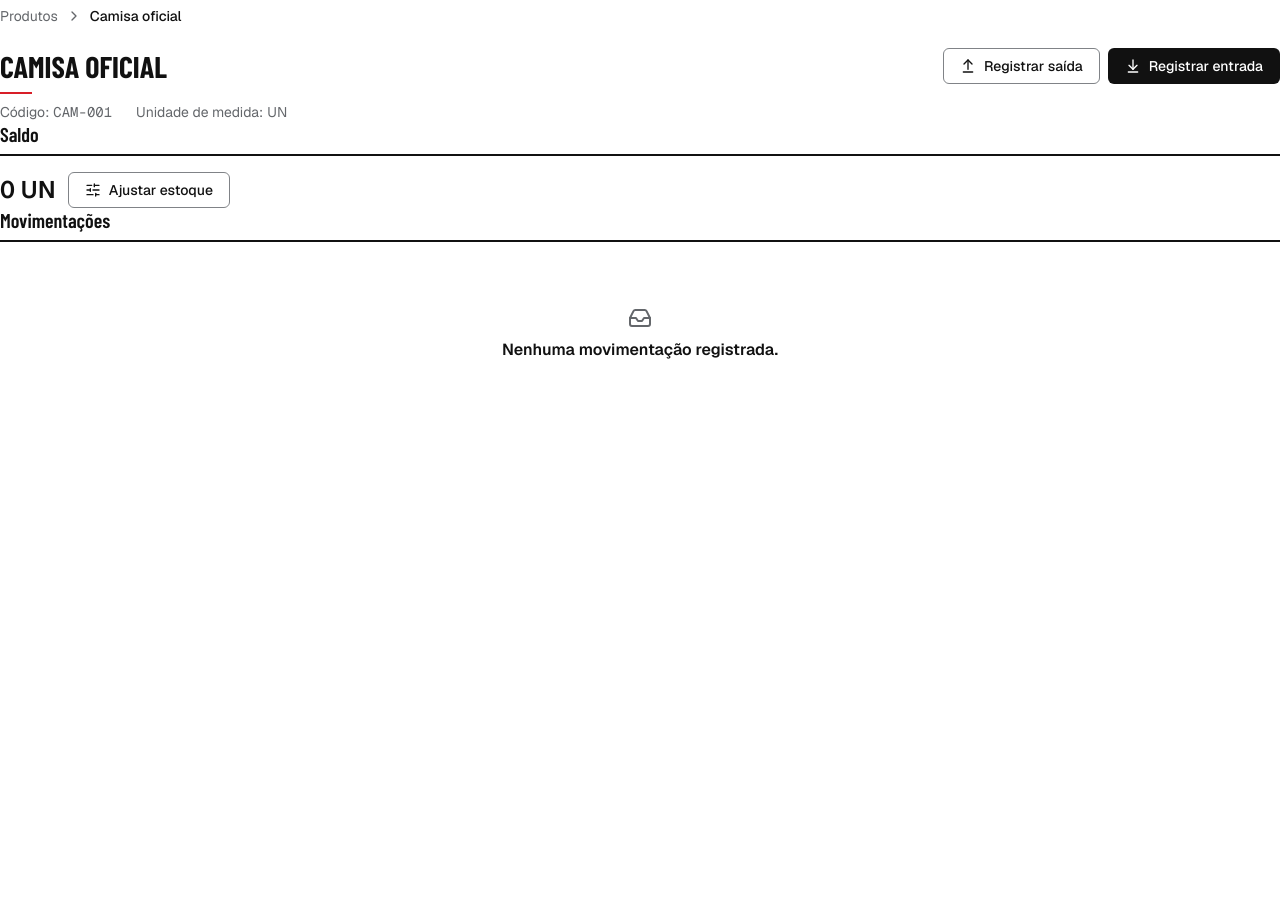
Test: erros da API › 422 quantidade_invalida mostra a mensagem e mantém o diálogo
Expected: the text "0 UN" is shown, x1=0 y1=174 x2=56 y2=206
Click the button "Ajustar estoque" at (149, 190), box x1=68 y1=172 x2=230 y2=208
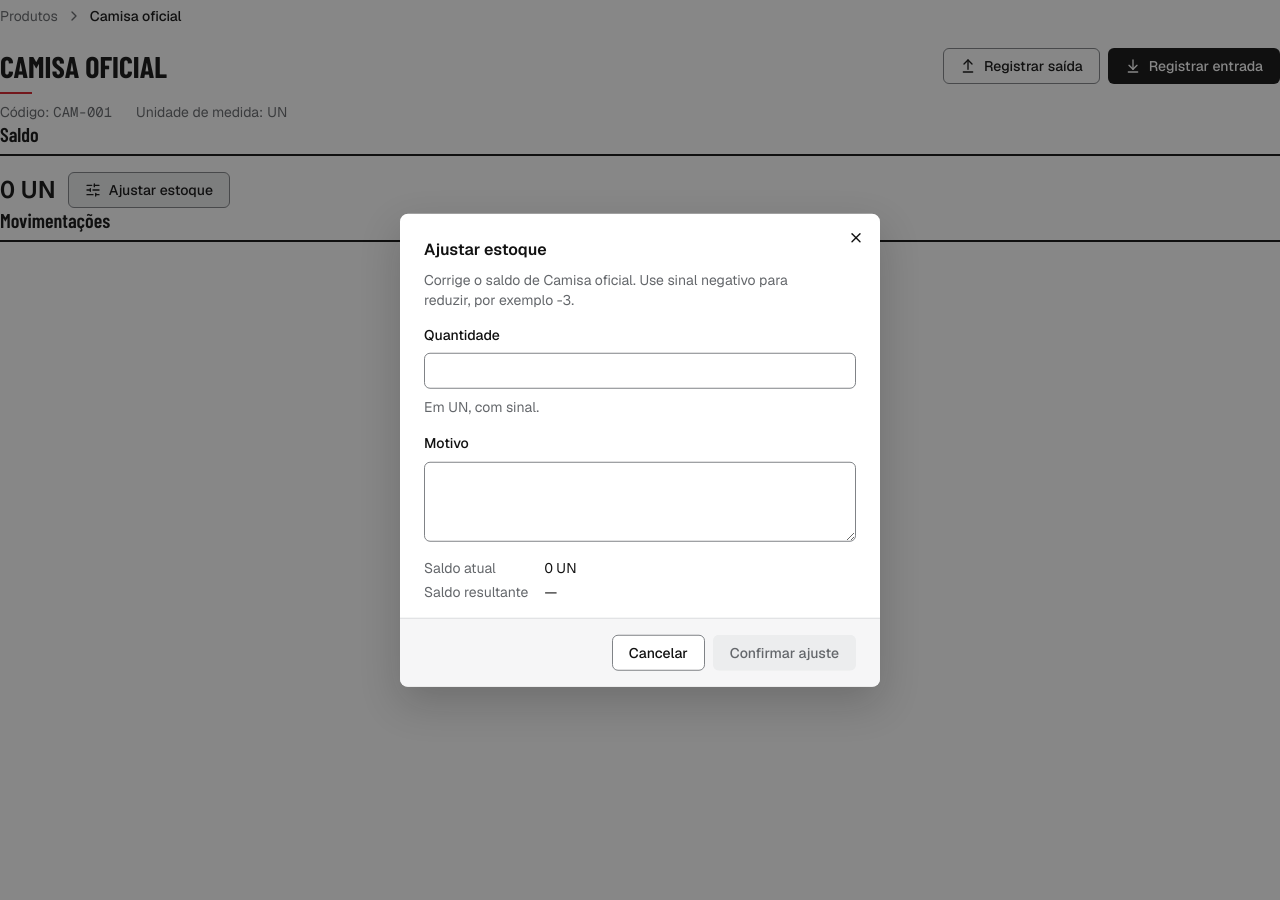
Type "-1" into the field labelled "Quantidade" at (640, 371), box x1=424 y1=353 x2=856 y2=389
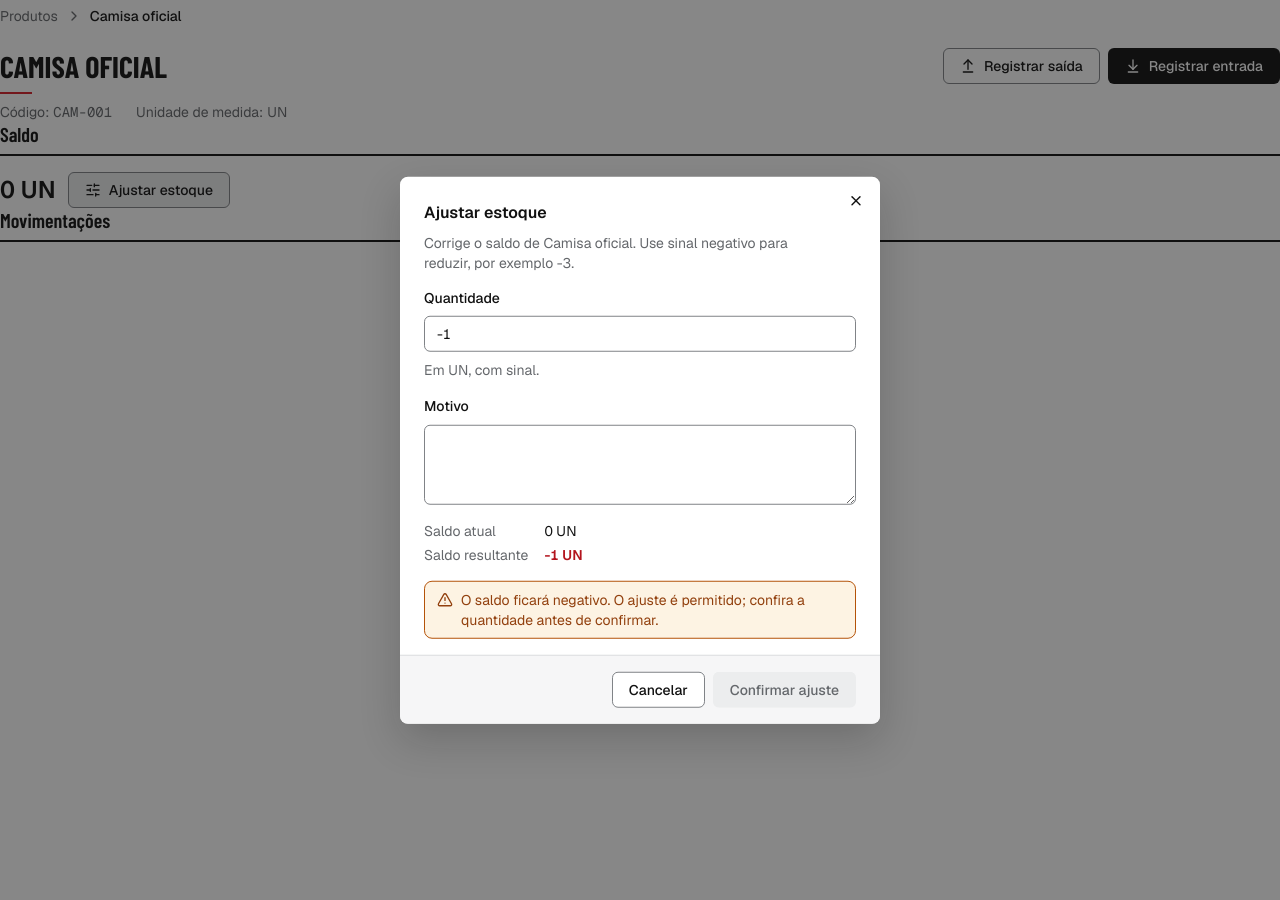
Type "Motivo" into the text box labelled "Motivo" at (640, 464), box x1=424 y1=424 x2=856 y2=504
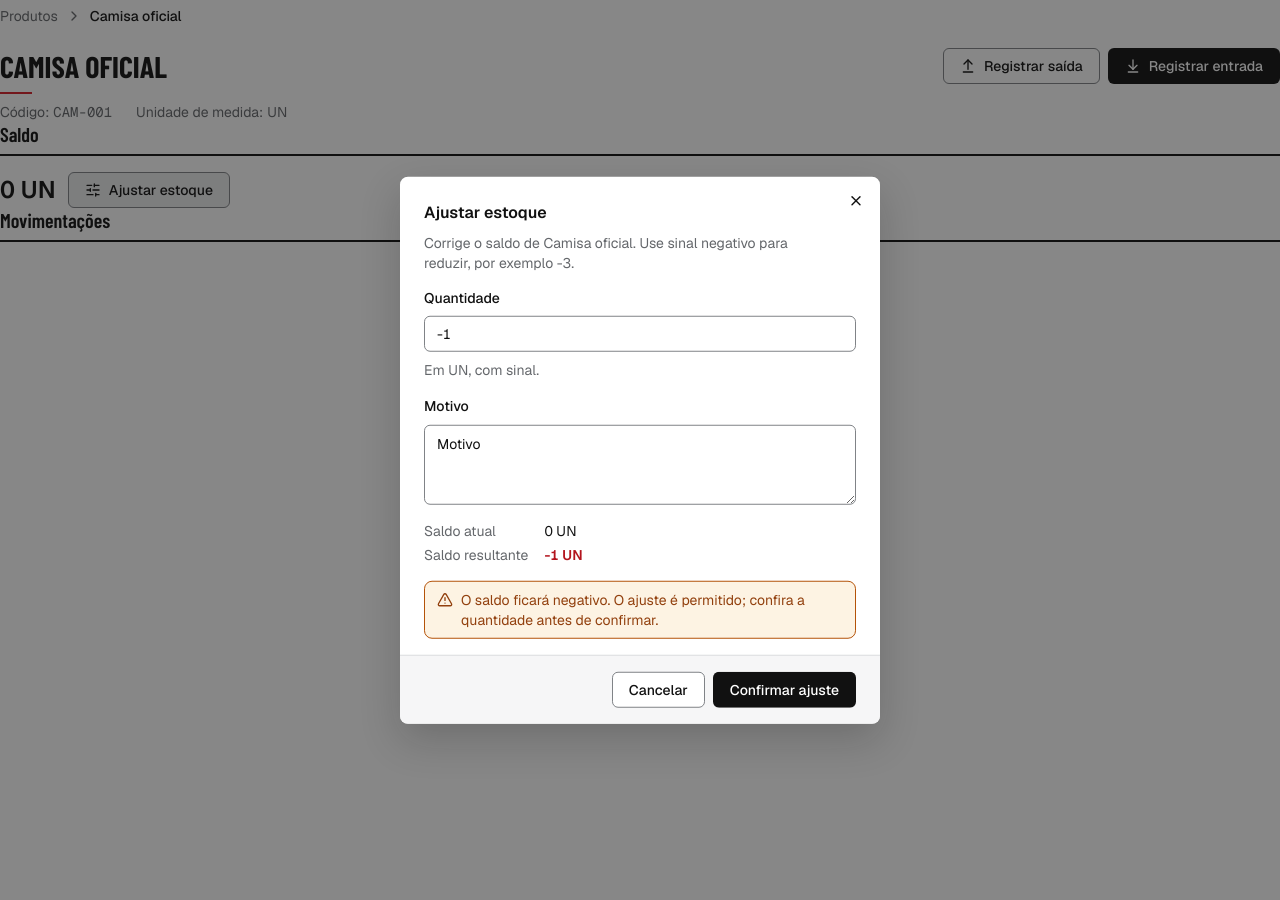
Click the button "Confirmar ajuste" at (784, 689), box x1=713 y1=671 x2=856 y2=707
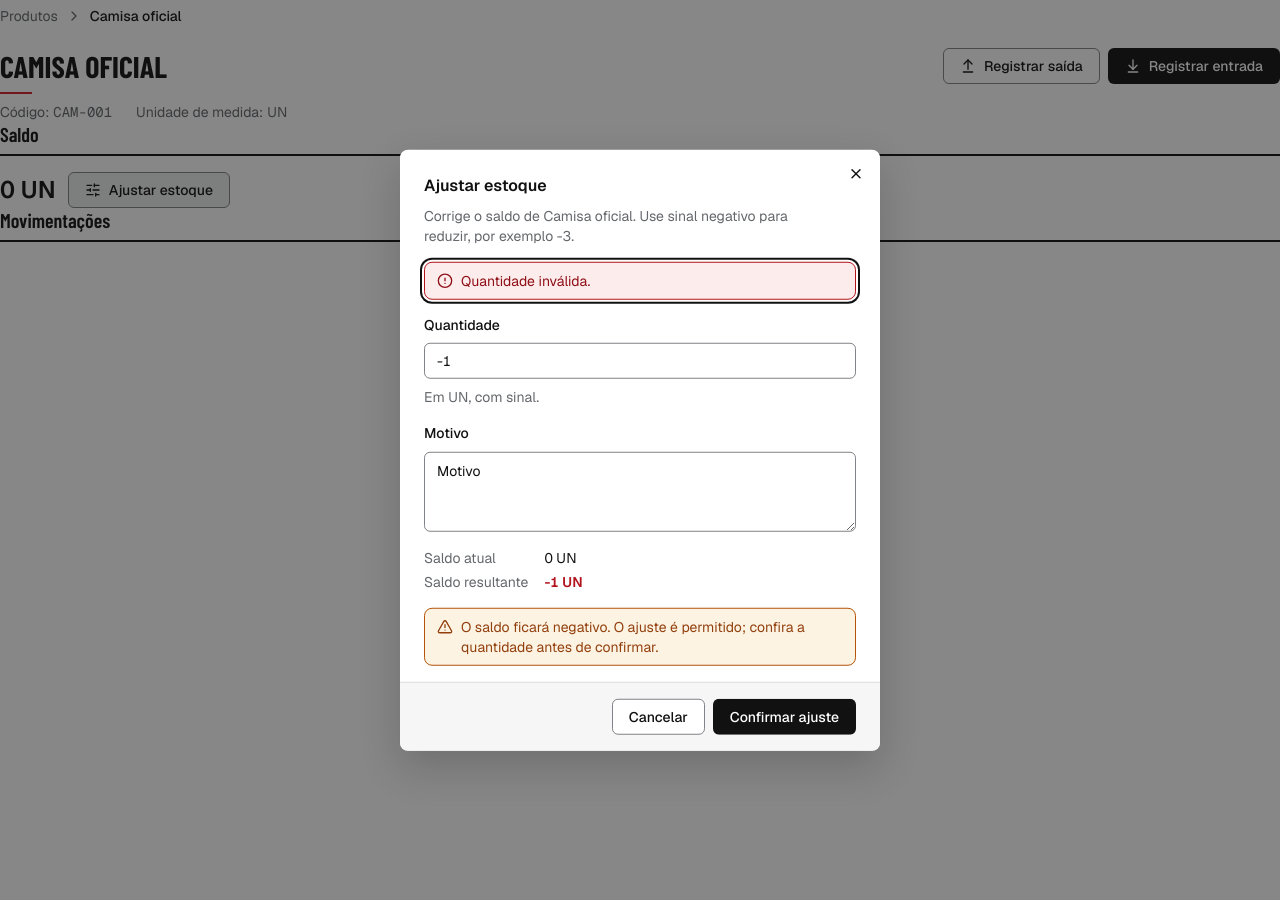
Expected: the text with test id "saldo-valor" reads "0 UN", x1=0 y1=174 x2=56 y2=205
Expected: the text "Quantidade inválida." is shown, x1=461 y1=272 x2=590 y2=290
